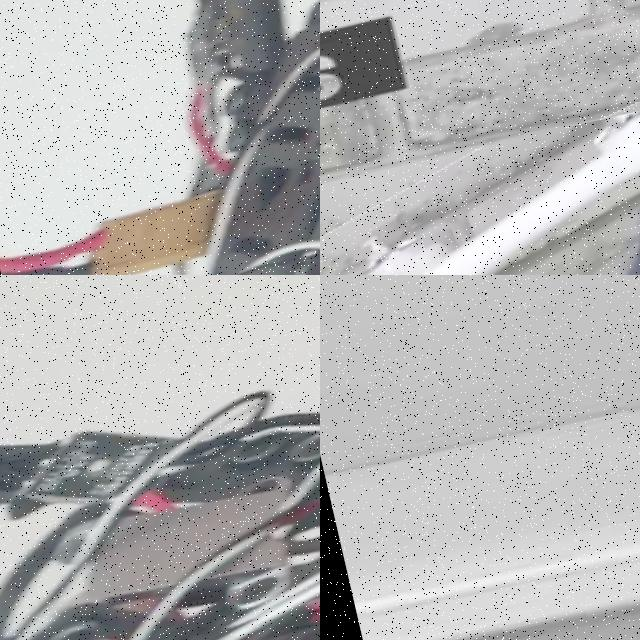drone: (0, 275, 320, 640), (0, 0, 320, 275), (320, 80, 640, 275)
